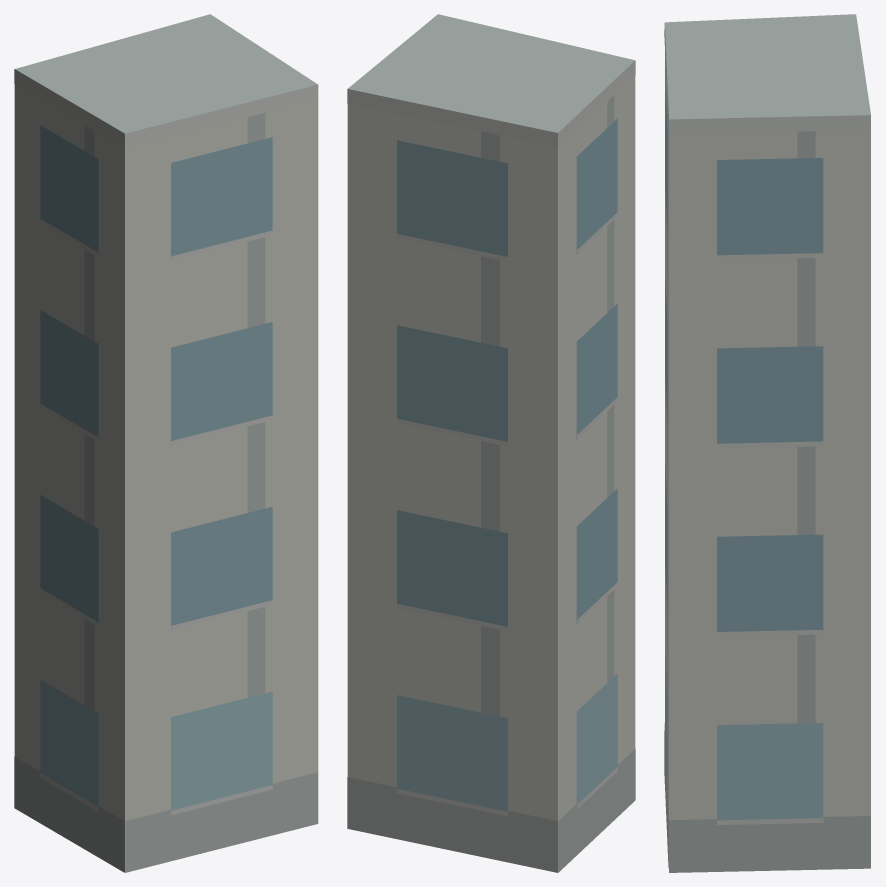
The model's file is survey-upis-32623365.glb.
3 renders of one model, left to right at view 1: azimuth 30°, elevation 25°; view 2: azimuth 150°, elevation 25°; view 3: azimuth 270°, elevation 25°, orthographic.
Visible parts, largest first — view 1: survey-upis-32623365.tmp; view 2: survey-upis-32623365.tmp; view 3: survey-upis-32623365.tmp.
Boxes of the visible parts, <box> form: survey-upis-32623365.tmp: <box>14,14,318,872</box>; survey-upis-32623365.tmp: <box>347,14,635,872</box>; survey-upis-32623365.tmp: <box>664,14,870,872</box>.
Bounding box in the file's own units: 3.67 × 12.2 × 3.04.
